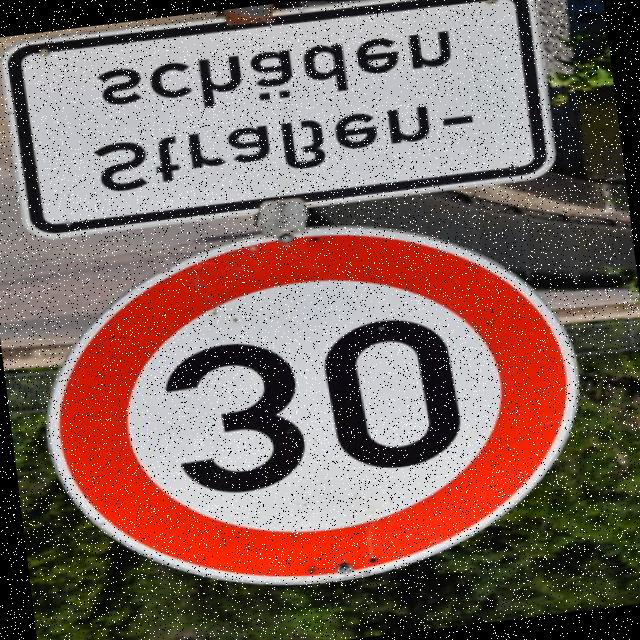speed_limit_30: (18, 190, 618, 634)
